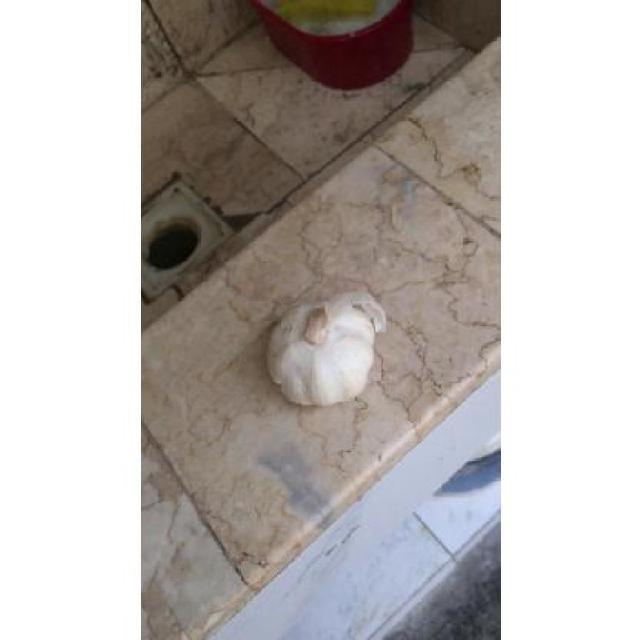garlic: (268, 291, 386, 406)
